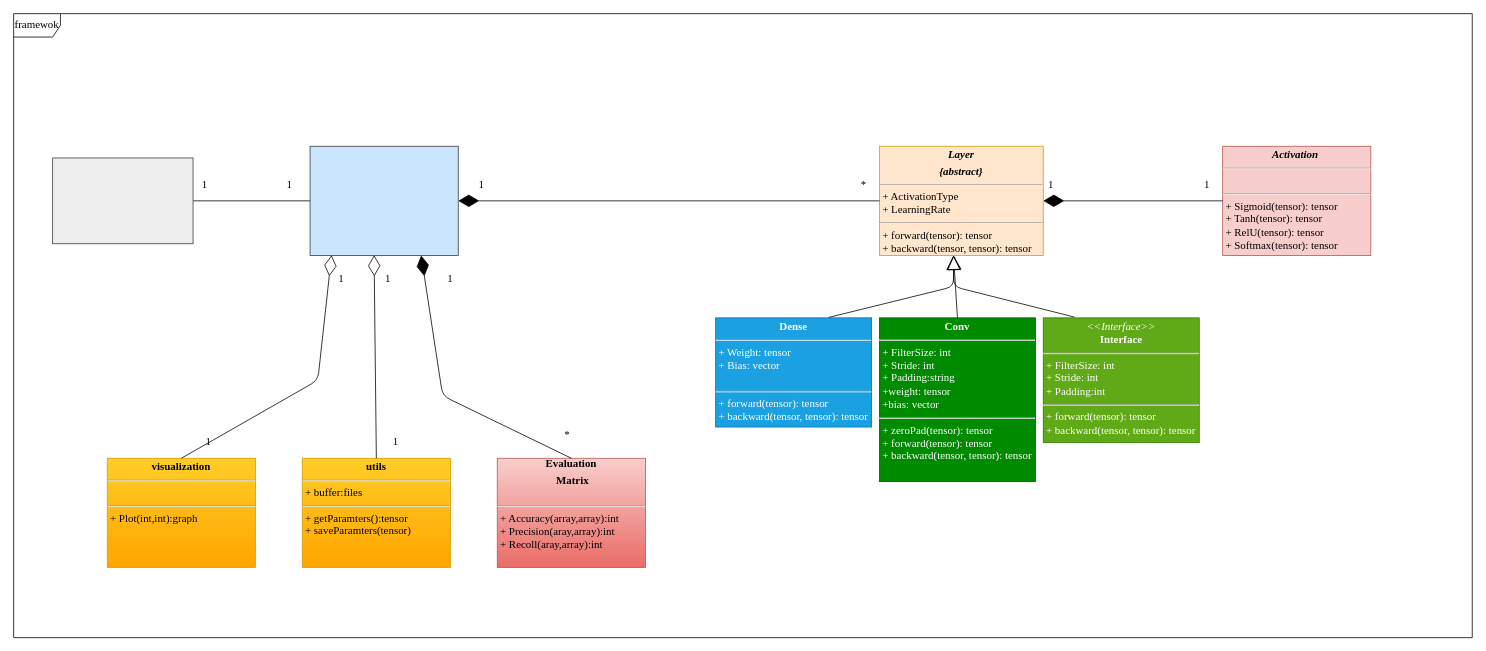
The diagram is 1486 pixels wide and 651 high, and some of its shapes have lost their labels. Here are the shapes that lost their labels. From the top down, the box of each, then its label:
(52, 157, 193, 244): Data + TraningData:tensor +TestingData:tesor: + getData(files):tensor
(309, 145, 458, 255): Model + Layers:list + add(layer): + optimize(epochs, batch size):
